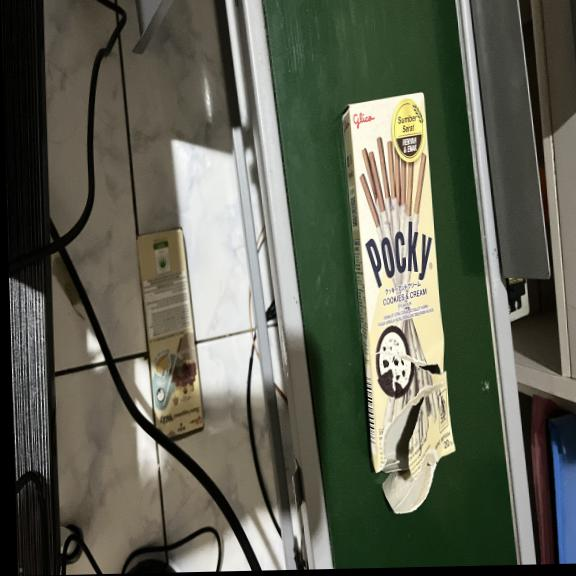Kertas: (345, 94, 458, 470)
